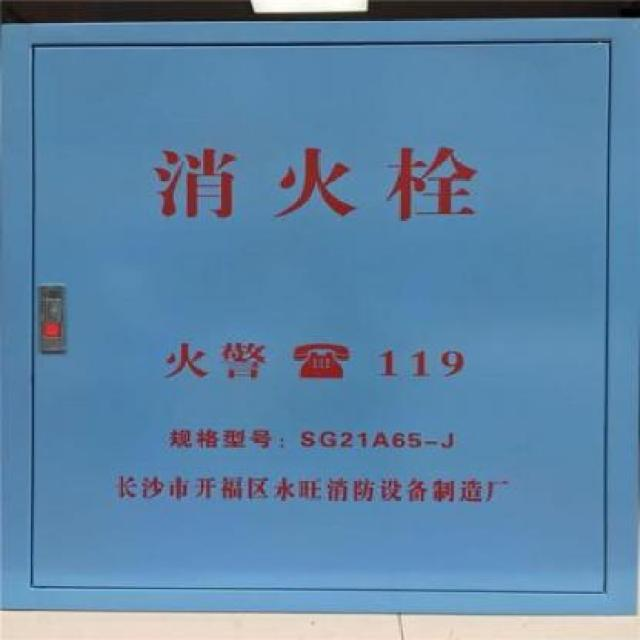firehydrant: (0, 14, 639, 621)
